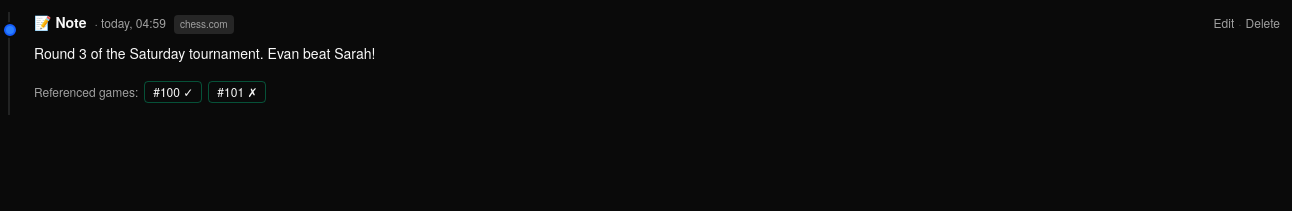
Scenario: EntryCard — note edit/delete (v1.12.0) › Cancel restores the original body and exits edit mode
The image size is (1292, 211).
Click the button with aria-label "Edit note" at (1224, 23), box [1214,15,1234,31]
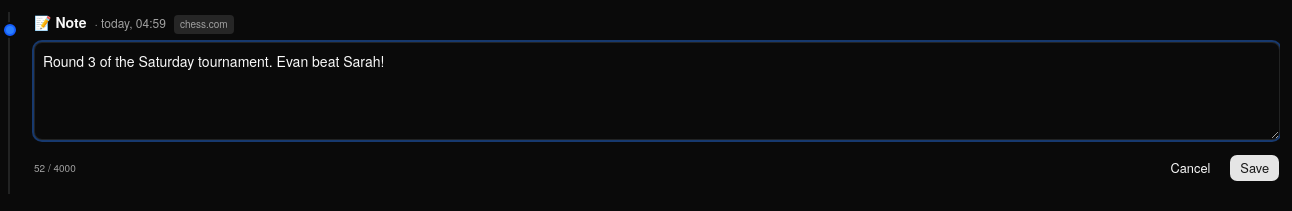
Replace the text in the text box named "Edit note body" with "discarded edit" at (657, 91), box [34,42,1280,140]
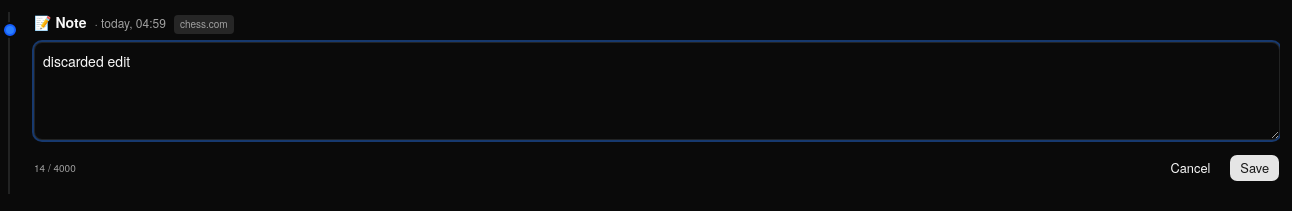
Click the button "Cancel" at (1190, 168), box [1160,154,1221,182]
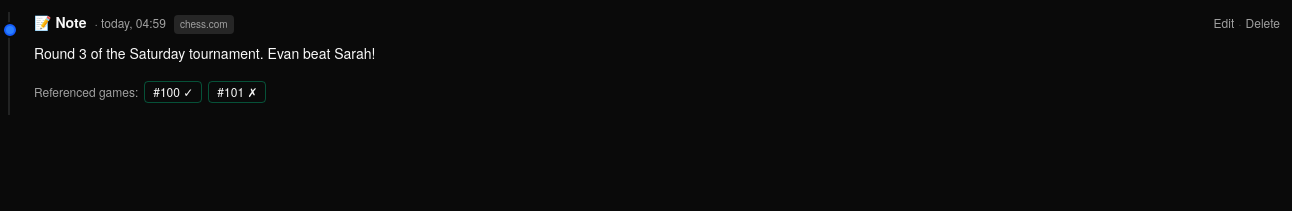
expect the text "Round 3 of the Saturday tournament. Evan beat Sarah!" is shown: met, box [34,43,375,63]
